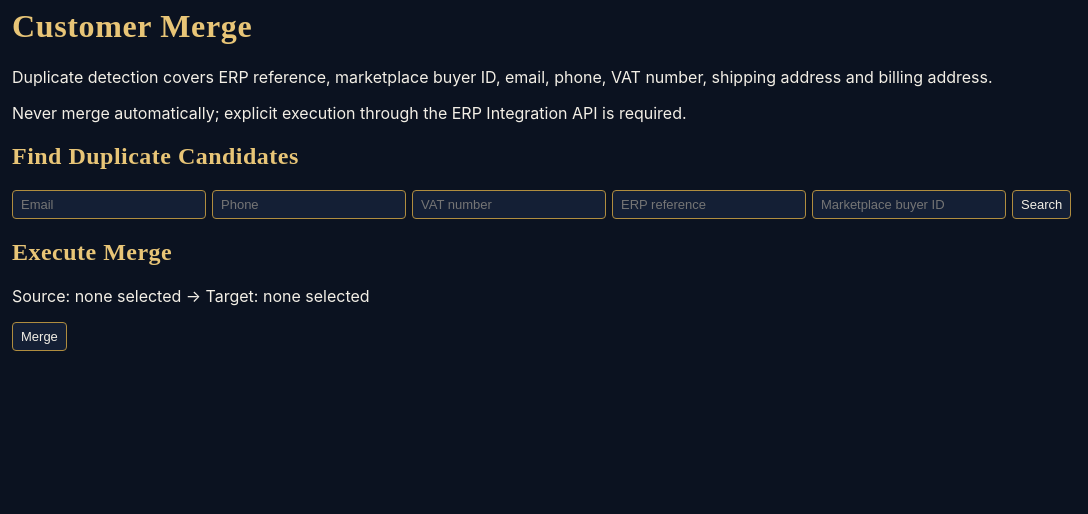
Test case: Customer Merge page (Sprint 61B) › allows selecting distinct source and target candidates, and only arms the merge once both are set
In the field with placeholder "Email": (109, 204) [12, 190, 206, 219], type "ada@x.test"
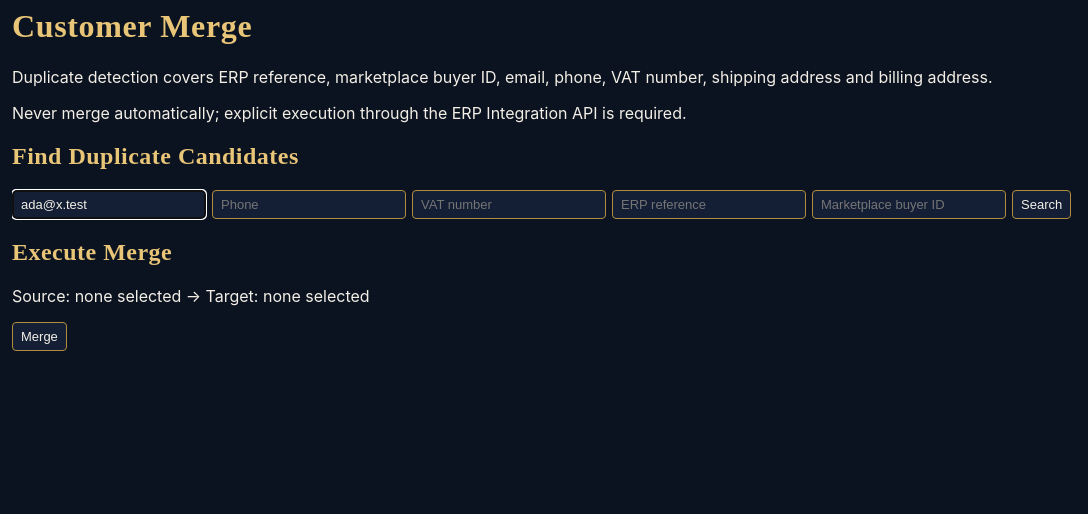
Click the button "Search": (1042, 204) [1012, 190, 1071, 219]
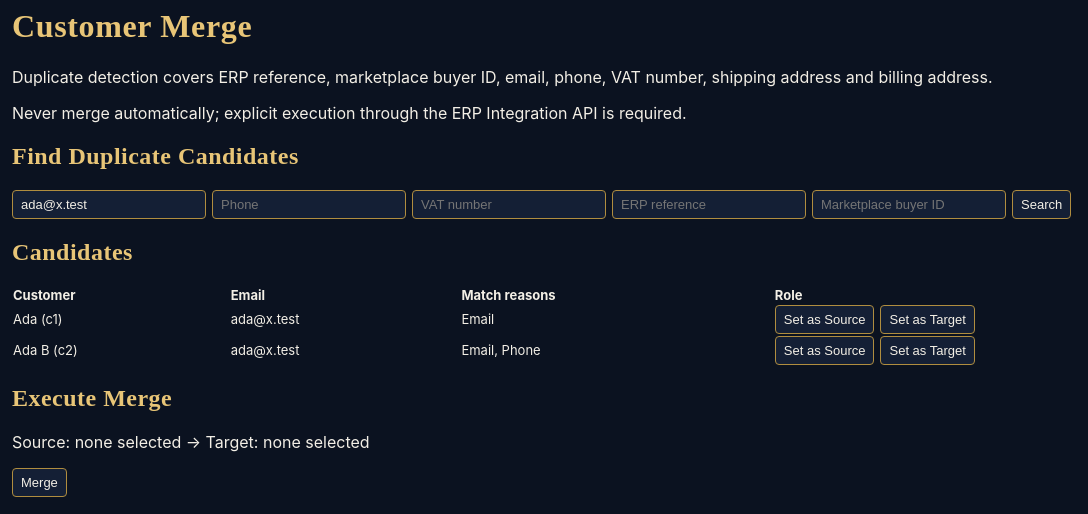
Check: the button "Merge" is disabled, box [12, 468, 67, 497]
Check: the text "Ada (c1)" is shown, box [12, 304, 230, 334]
Click the button "Set as Source" in the row of "c1": (825, 319) [775, 304, 874, 334]
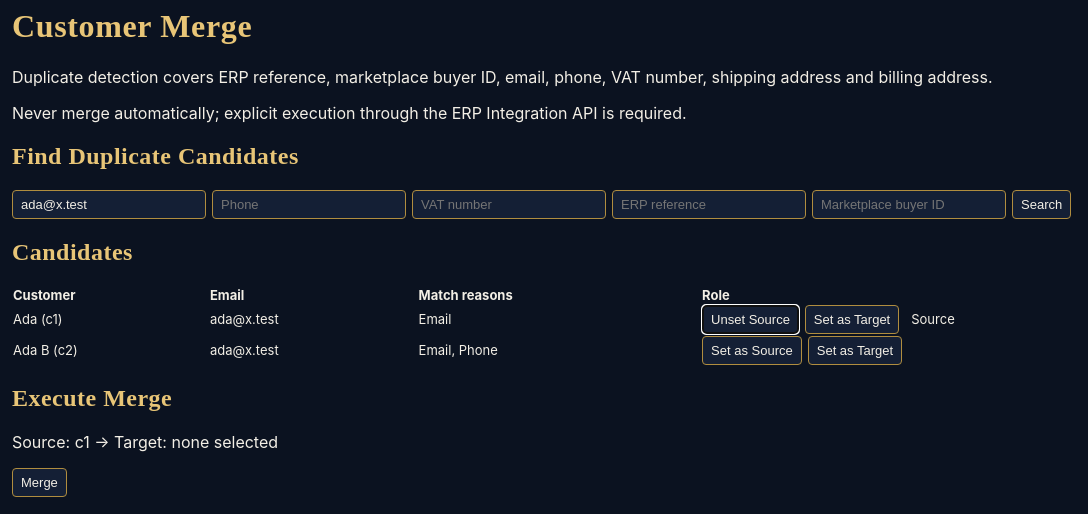
Check: the button "Merge" is disabled, box [12, 468, 67, 497]
Click the button "Set as Target" in the row of "Ada B": (855, 350) [808, 336, 902, 364]
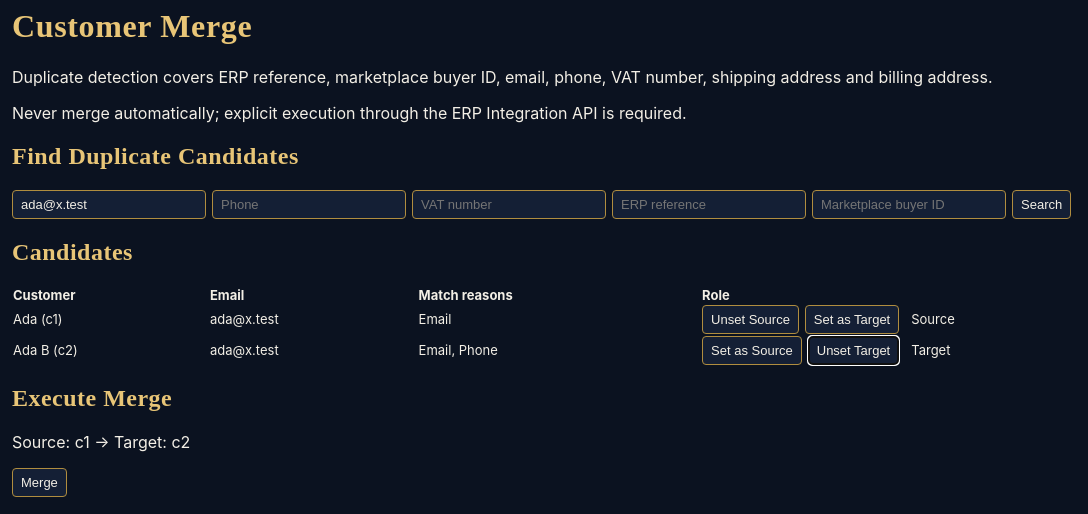
Check: the button "Merge" is enabled, box [12, 468, 67, 497]
Check: the text "Source" is shown, box [911, 310, 955, 326]
Check: the text "Target" is shown, box [911, 342, 950, 358]
